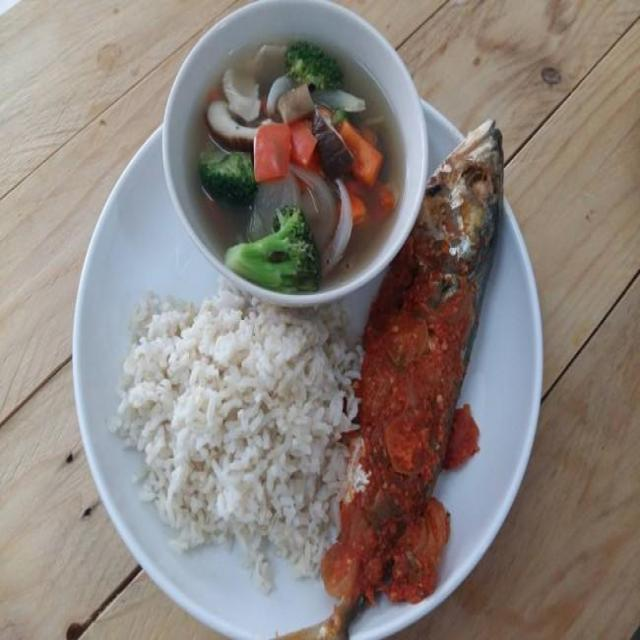Fish: (273, 112, 509, 639)
Plate: (80, 128, 325, 639)
Rice: (106, 283, 368, 596)
Vegetables: (194, 43, 397, 297)
